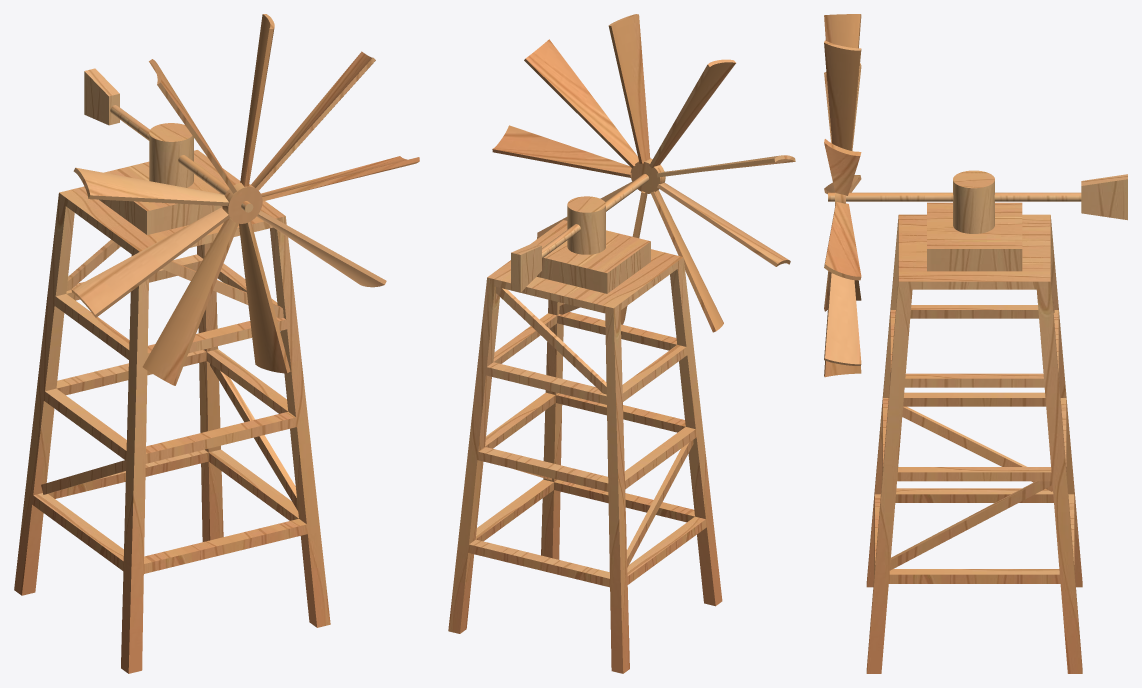
File: new Moinho.fbx
3 renders of one model, left to right at view 1: azimuth 30°, elevation 25°; view 2: azimuth 150°, elevation 25°; view 3: azimuth 270°, elevation 25°, orthographic. The views are drawn at different scales.
Visible parts, largest first — view 1: Cube.017, Cylinder.003; view 2: Cube.017, Cylinder.003; view 3: Cube.017, Cylinder.003.
Boxes of the visible parts, left/top/right/bottom form: Cube.017: left=14, top=68, right=330, bottom=673; Cylinder.003: left=71, top=14, right=419, bottom=385; Cube.017: left=448, top=174, right=722, bottom=673; Cylinder.003: left=492, top=14, right=795, bottom=332; Cube.017: left=828, top=170, right=1127, bottom=673; Cylinder.003: left=824, top=14, right=861, bottom=377.
Bounding box in the file's own units: 940 × 1717 × 794.
